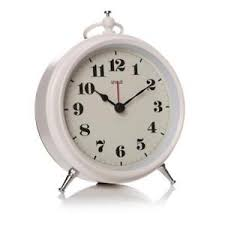alarm_clock: (34, 3, 185, 193), (41, 3, 185, 193)
